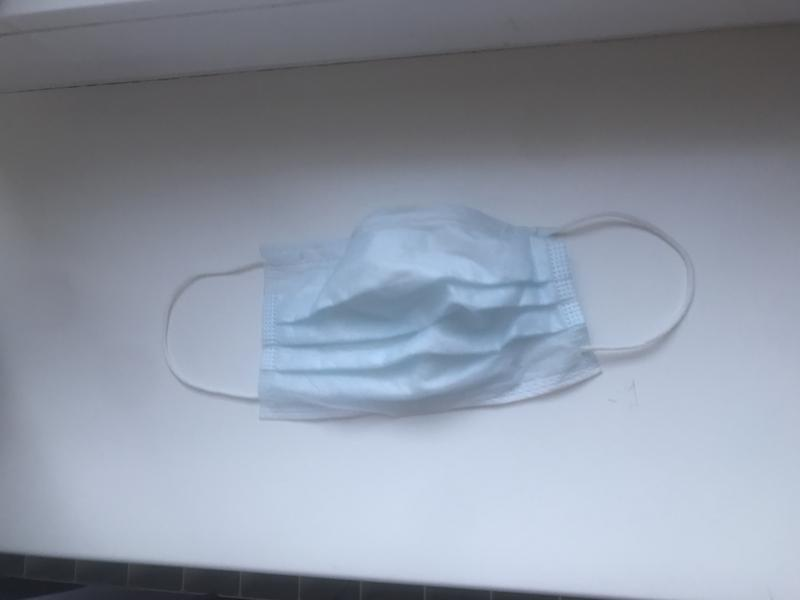medical_mask: (163, 221, 694, 414)
